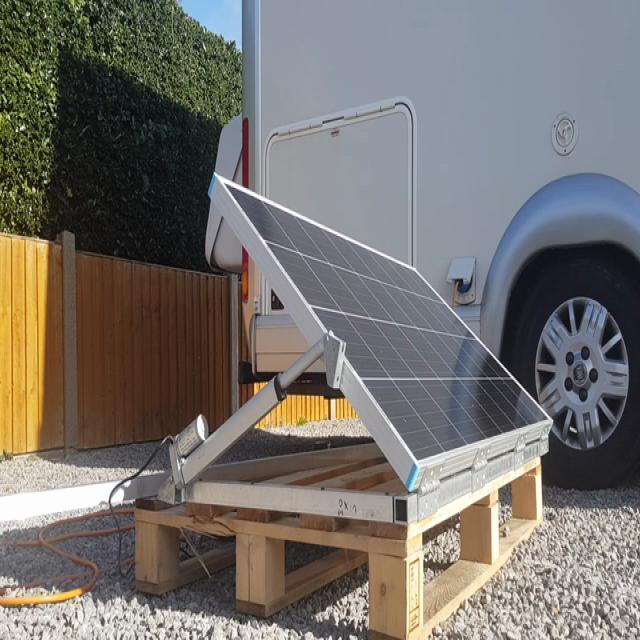Normal Solar Panel: (215, 173, 552, 469)
